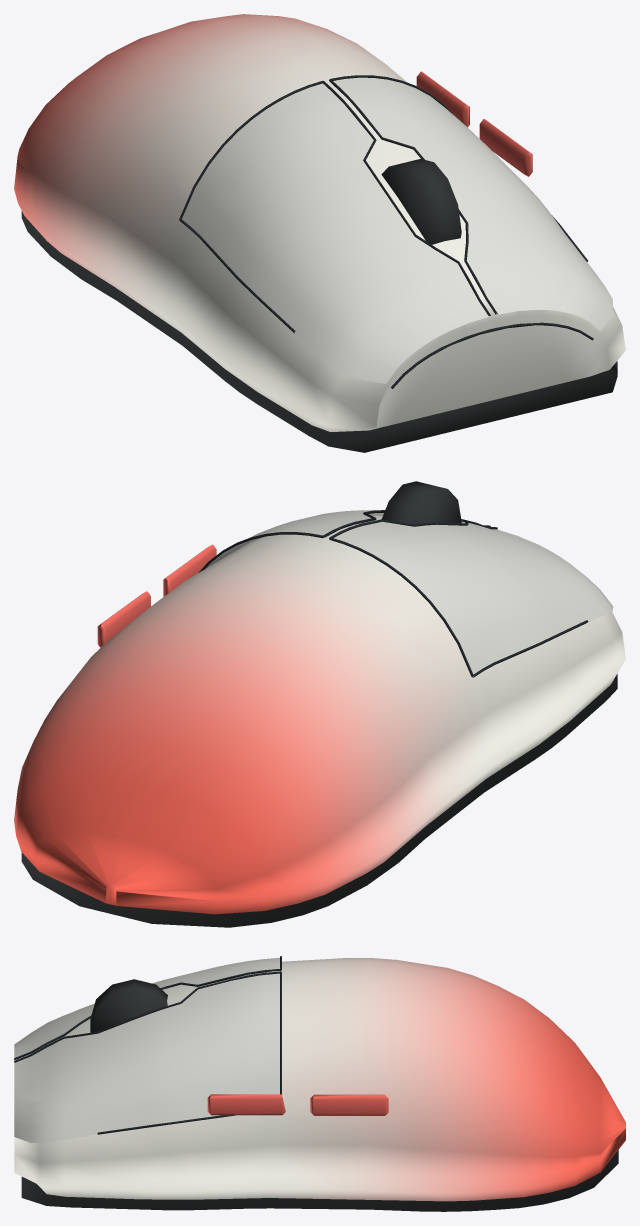
3 renders of one model, top to bottom at view 1: azimuth 30°, elevation 25°; view 2: azimuth 150°, elevation 25°; view 3: azimuth 270°, elevation 25°, orthographic. The views are drawn at different scales.
Visible parts, largest first — view 1: Mouse body GPX continuous rounded back, Left click panel, Scroll wheel, Left click outer seam, Side button left only; view 2: Mouse body GPX continuous rounded back, Left click panel, Scroll wheel, Left click outer seam, Side button left only; view 3: Mouse body GPX continuous rounded back, Left click panel, Scroll wheel, Side button left only, Left click outer seam.
Boxes of the visible parts, x1,y1,x2,y2 form: Mouse body GPX continuous rounded back: [14, 14, 625, 431]; Left click panel: [182, 77, 613, 383]; Scroll wheel: [21, 159, 617, 452]; Left click outer seam: [179, 75, 593, 388]; Side button left only: [416, 71, 532, 176]; Mouse body GPX continuous rounded back: [14, 515, 625, 914]; Left click panel: [205, 510, 613, 676]; Scroll wheel: [21, 481, 617, 927]; Left click outer seam: [198, 510, 588, 677]; Side button left only: [97, 544, 216, 647]; Mouse body GPX continuous rounded back: [14, 958, 625, 1201]; Left click panel: [14, 958, 279, 1142]; Scroll wheel: [21, 979, 618, 1211]; Side button left only: [207, 1094, 388, 1115]; Left click outer seam: [14, 956, 281, 1134].
Size of the model in its own units: 0.0635 by 0.0404 by 0.1251.
